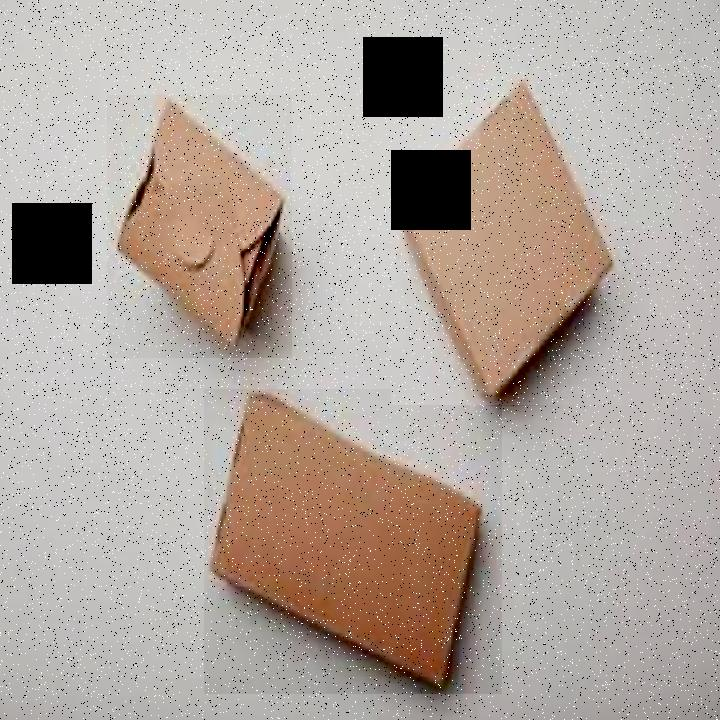box: (204, 389, 502, 694), (392, 81, 624, 405), (107, 95, 292, 358)
